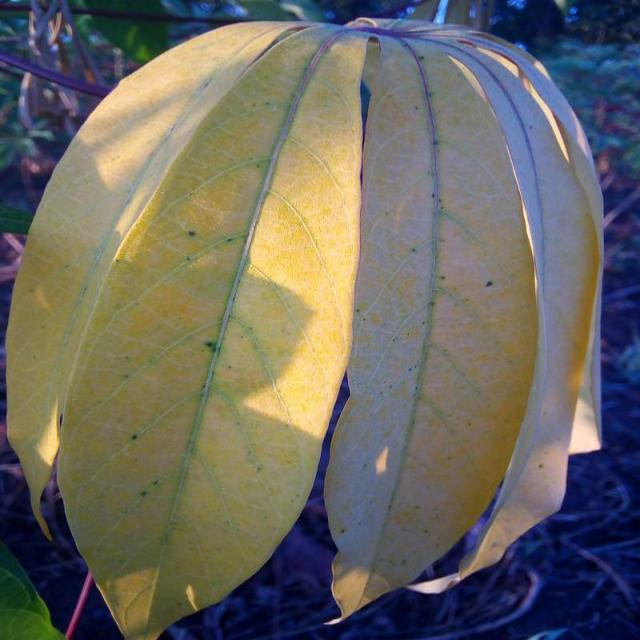cassava leaf: (4, 17, 369, 638), (321, 19, 604, 626)
